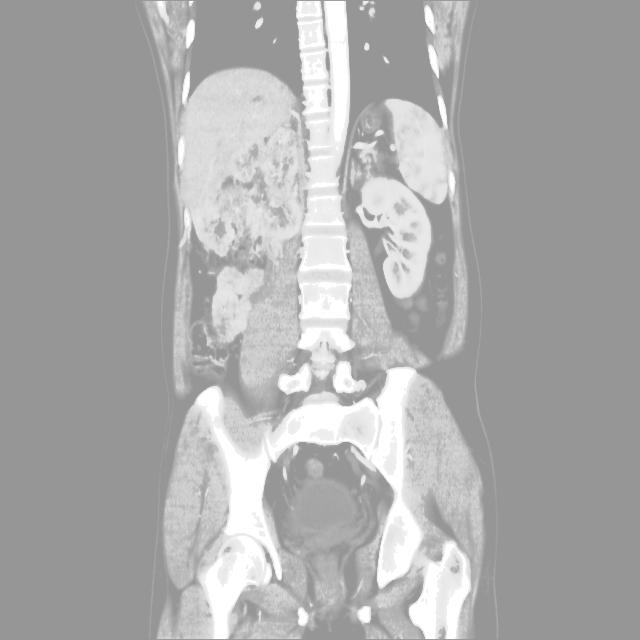TUMOR: (140, 147, 510, 506)
